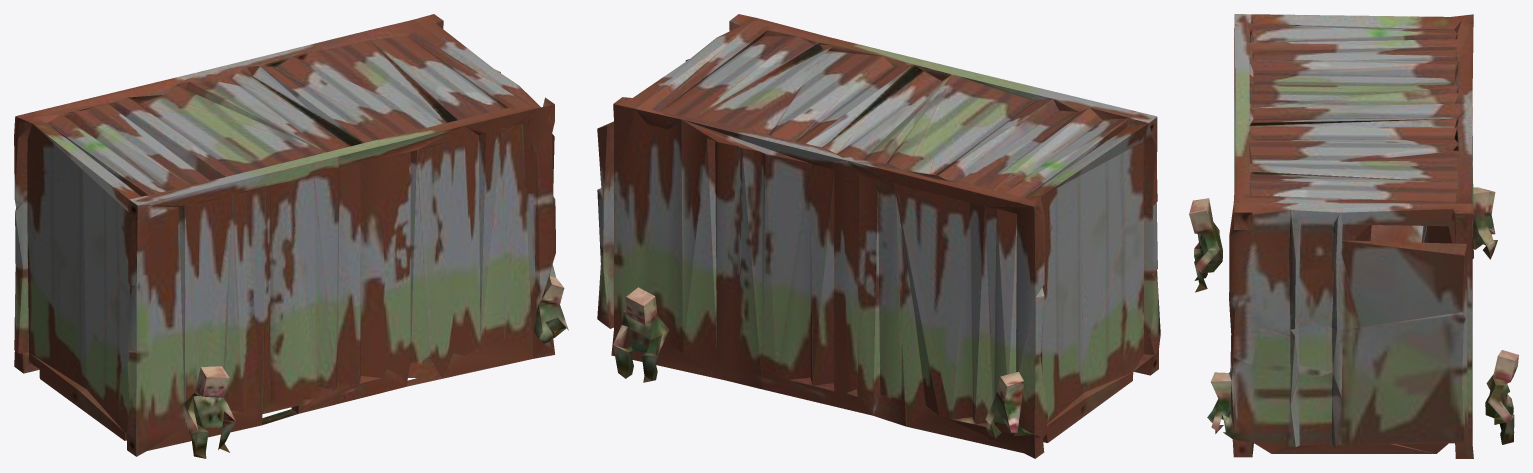
Rendered from prop_container.glb.
3 views of the same model, side by side, from view 1: azimuth 30°, elevation 25°; view 2: azimuth 150°, elevation 25°; view 3: azimuth 270°, elevation 25° (orthographic). The views are drawn at different scales.
Size of the model in its own units: 1.9 by 1.02 by 1.25.
Materials: 1 (1 with a texture image).
